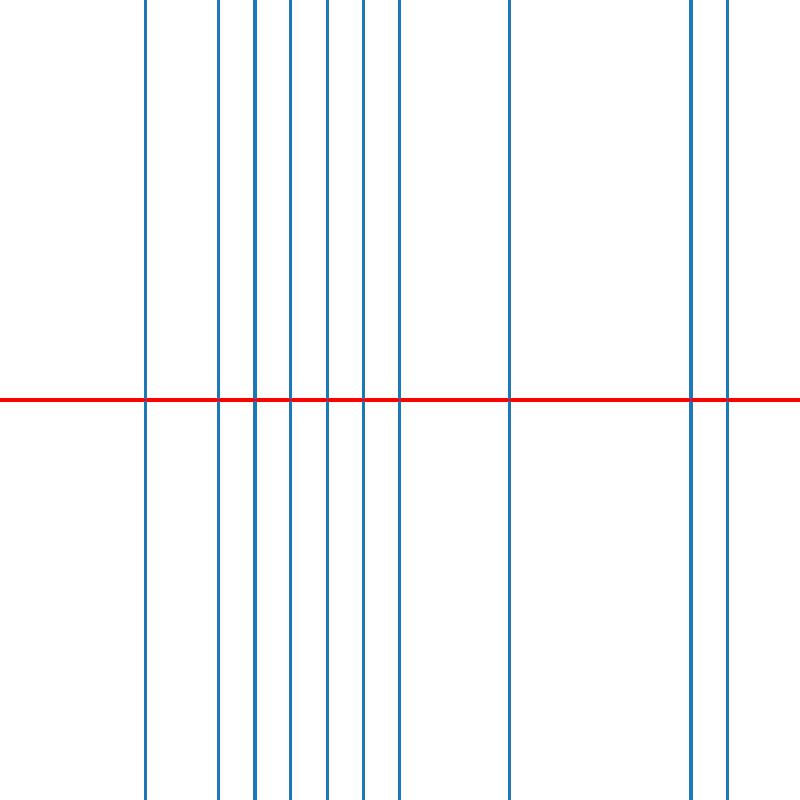root: (250, 396, 258, 404), (141, 396, 149, 404), (505, 396, 512, 404), (214, 396, 221, 404), (687, 396, 694, 404), (360, 396, 367, 404), (323, 396, 330, 404), (723, 396, 730, 404), (287, 396, 294, 404), (396, 396, 403, 404)
